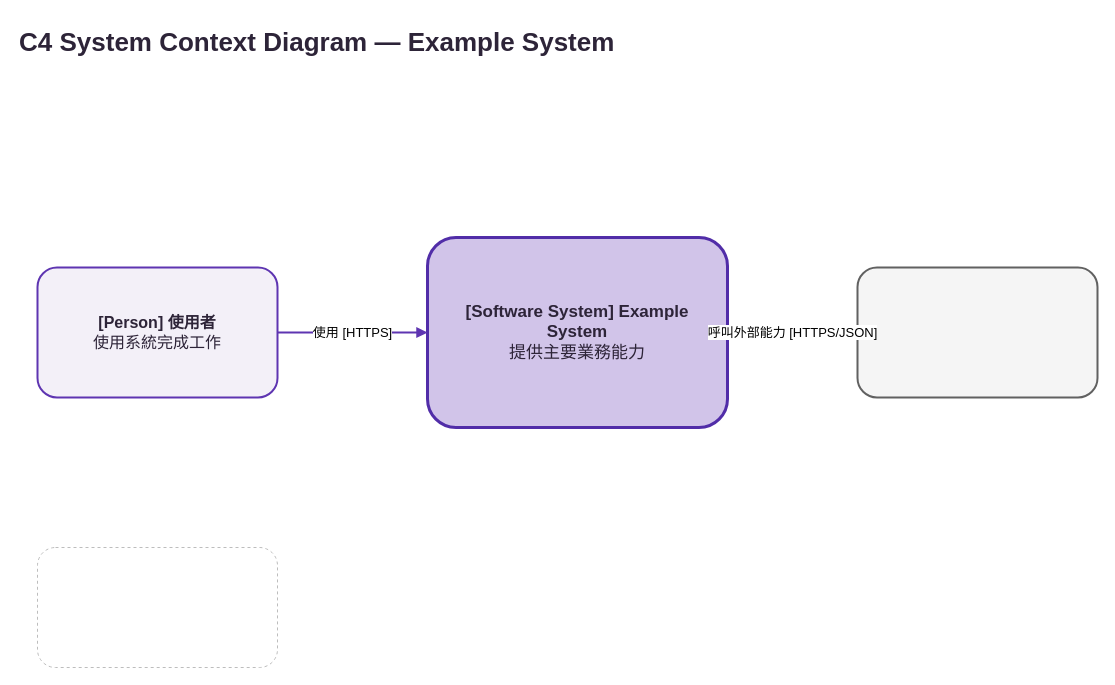
This 1115x685 diagram has some shape labels left out. Each missing label, with the box of its shape:
[Software System] External System 提供外部服務: (856, 266, 1098, 398)
圖例 (Legend) 紫色：目標系統 灰色：外部系統: (36, 546, 278, 668)
